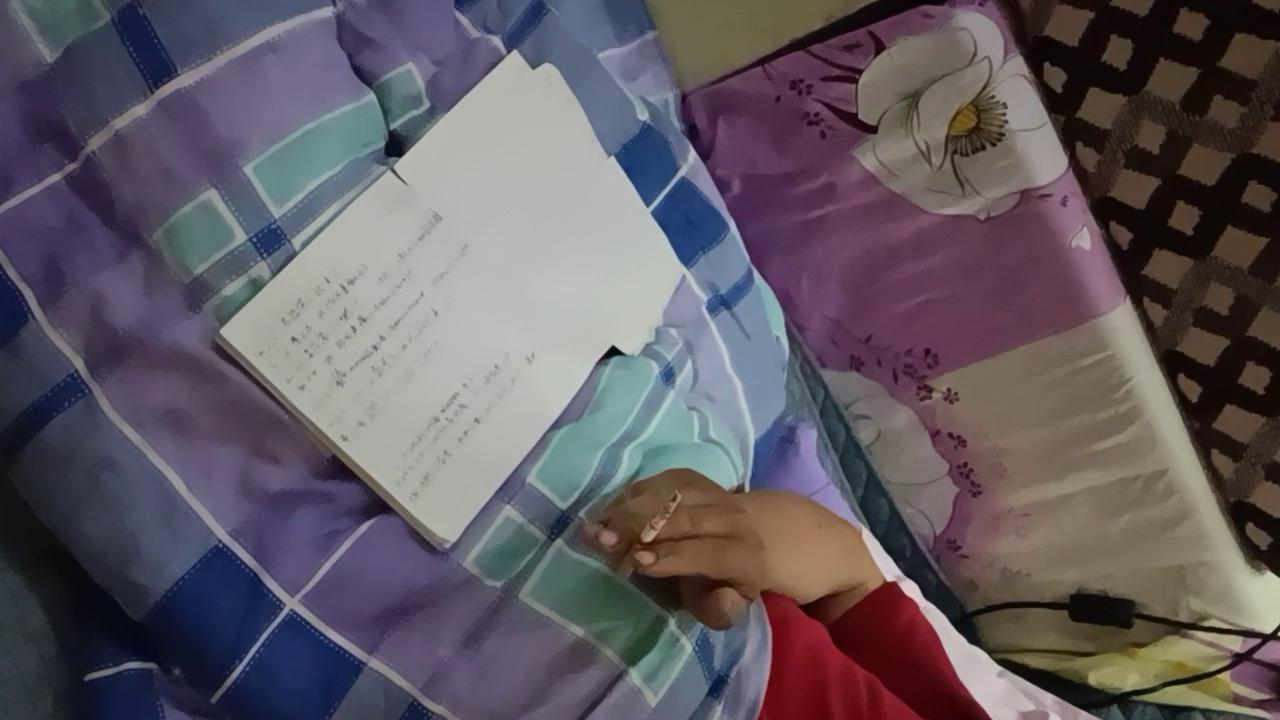smoke: (617, 488, 684, 580)
